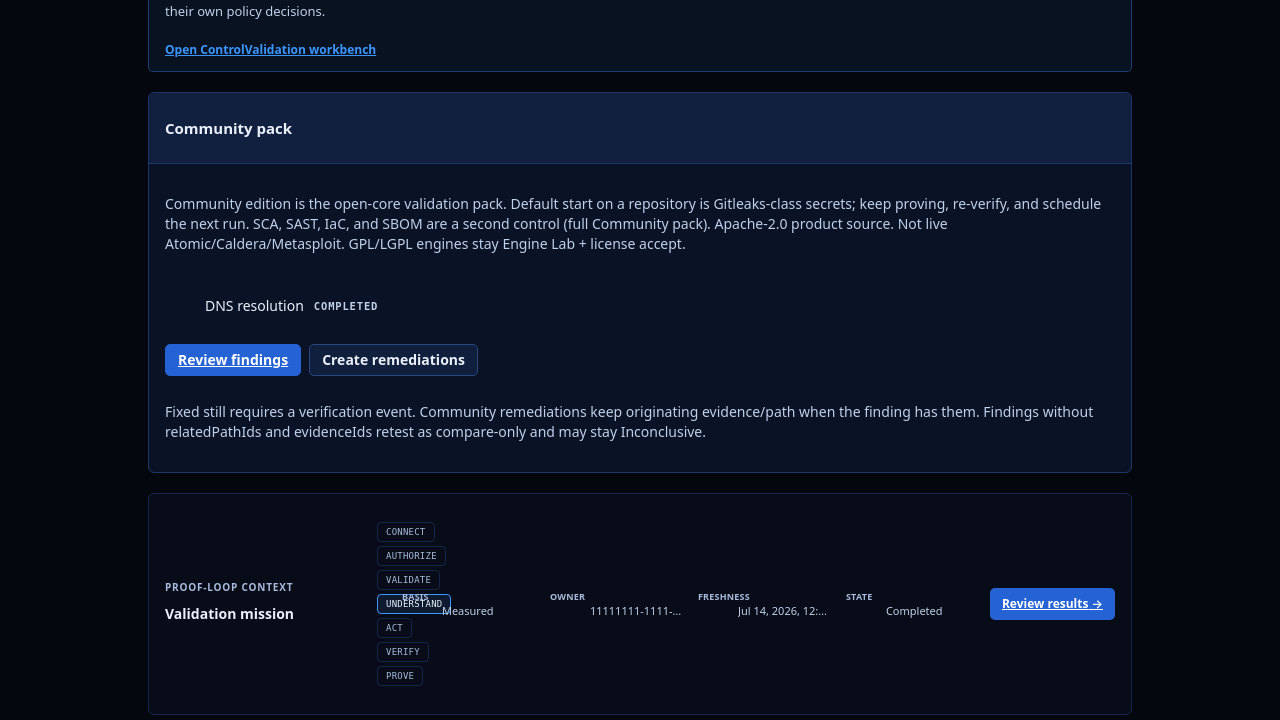
MissionDetail › does not imply Fixed when Community remediations stay empty
(page scrolled)
Click the button with test id "community-create-remediations" at (394, 360), box [309, 344, 478, 376]
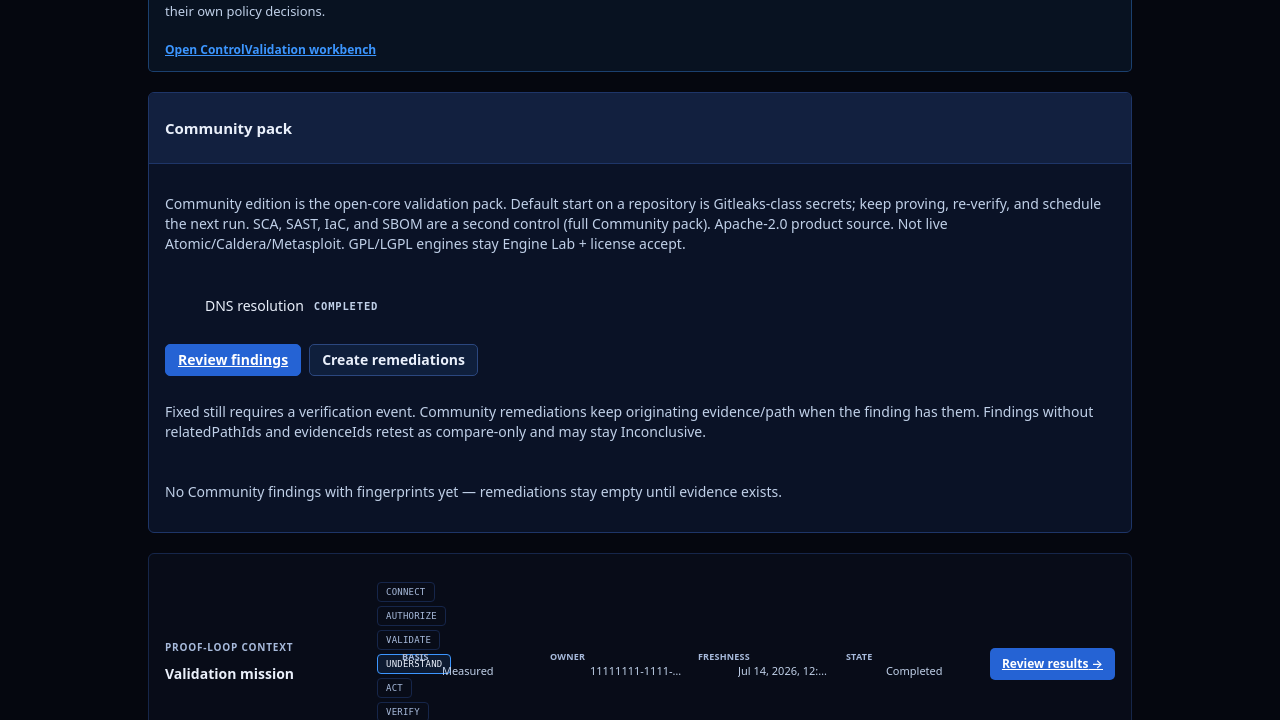
Expected: the 2nd message does not show "Opened", [165, 482, 782, 501]
Expected: the 2nd message shows "No Community findings with fingerprints yet — remediations stay empty until evidence exists.", [165, 482, 782, 501]
